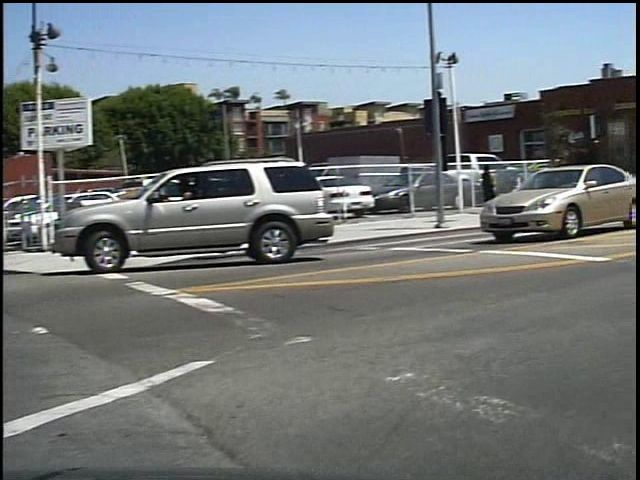person: (486, 161, 511, 218)
